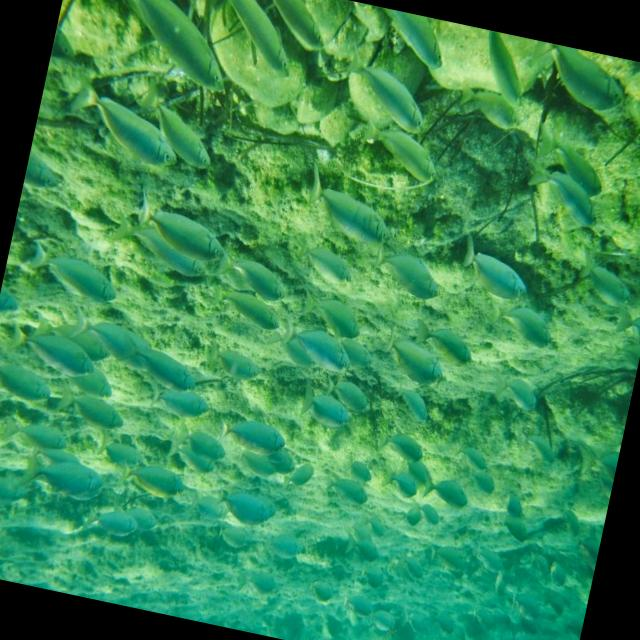Sokar Baligi: (290, 154, 405, 252), (123, 178, 239, 268), (446, 222, 537, 309), (208, 474, 282, 533)
